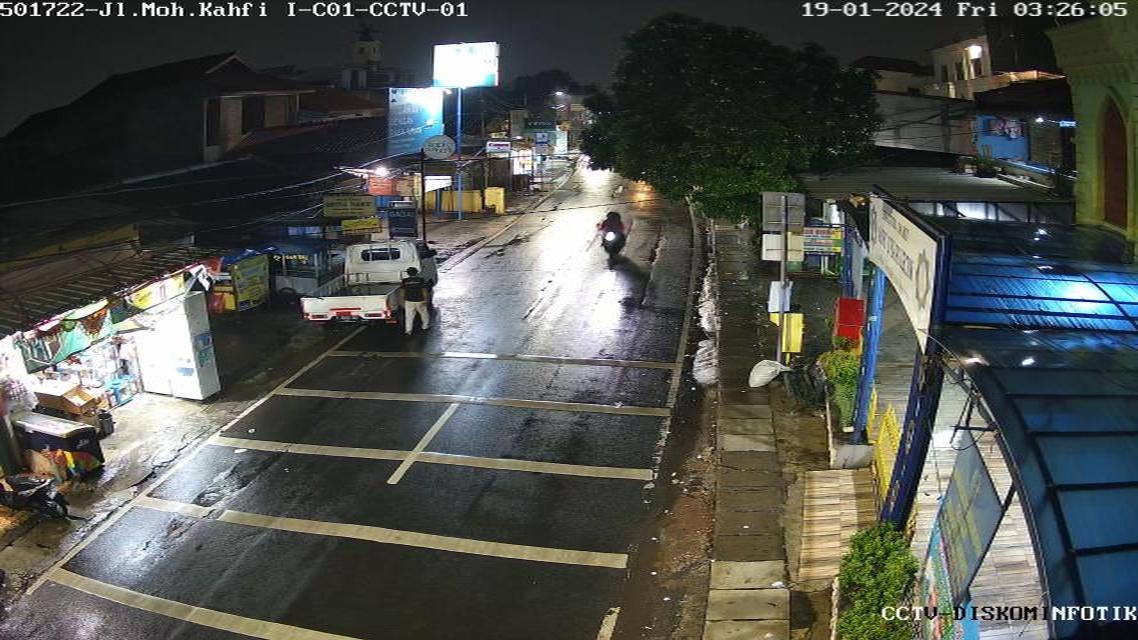Gerobak: (215, 252, 275, 313), (271, 249, 333, 298)
